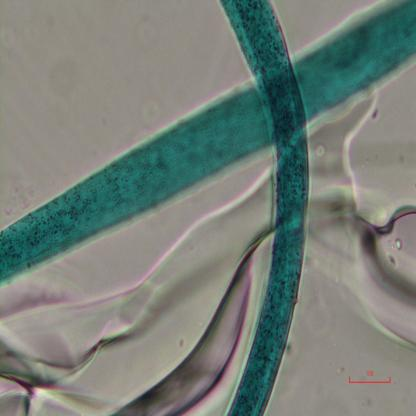Air bubble: (5, 193, 262, 412), (324, 121, 416, 347)
Microfibre: (0, 0, 416, 285), (217, 1, 310, 415)
